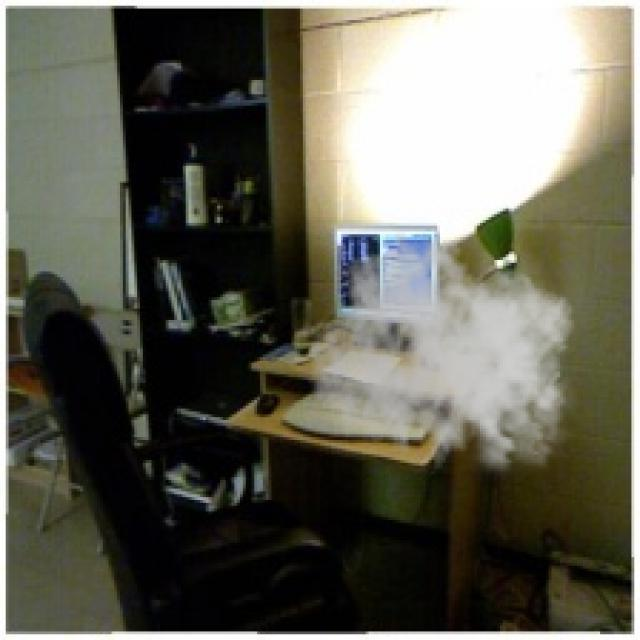Smoke: (308, 231, 583, 486)
